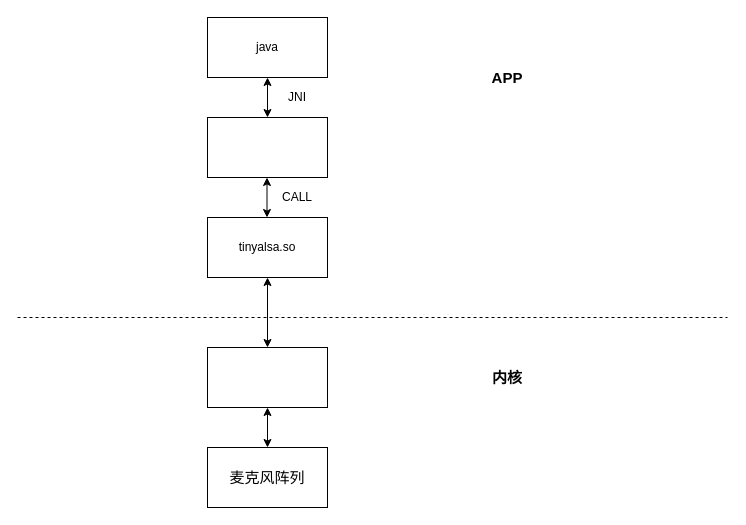
Image size: 746x525. Some labels were removed from this diagram. Each missing label, with the centre of its shape:
"native.so" belongs at pixel 267 147.
"Tinyalsa" belongs at pixel 267 377.
